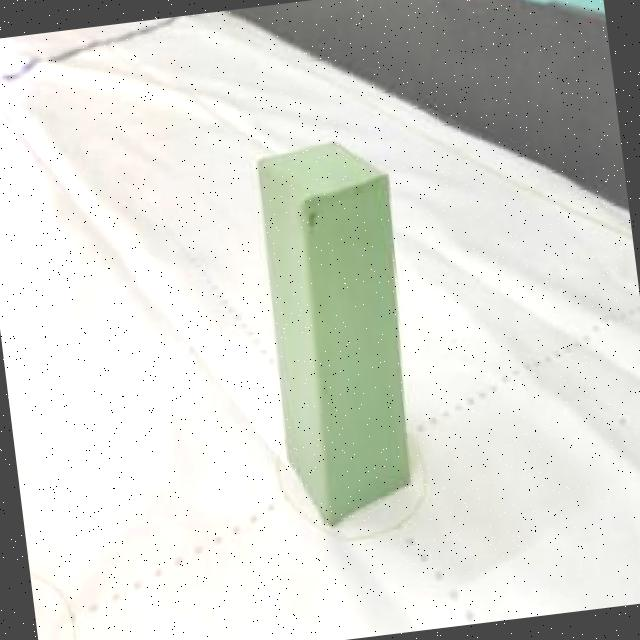greenbox: (243, 131, 432, 536)
